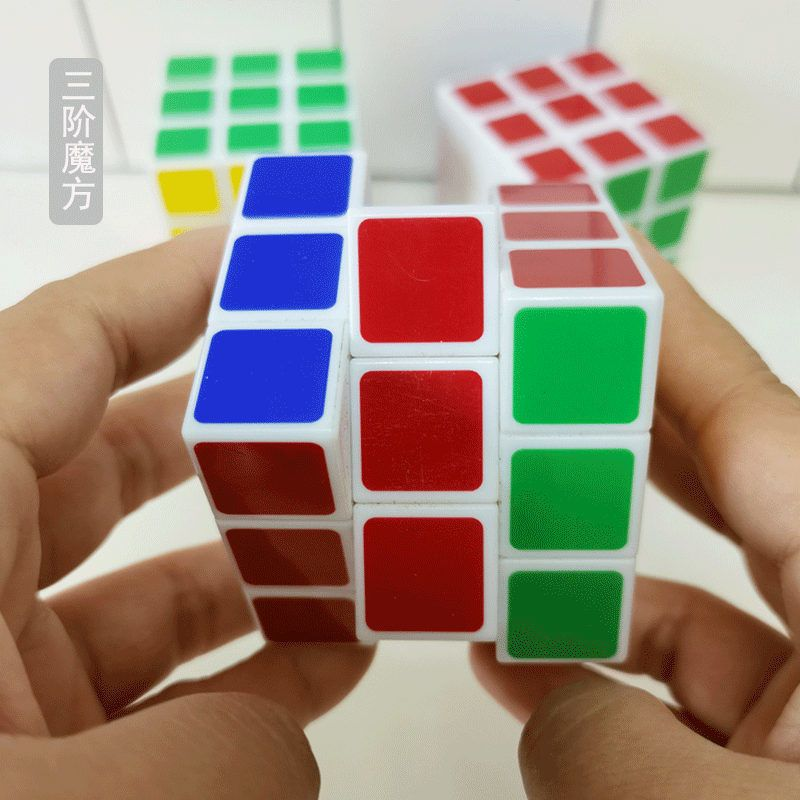cube: (174, 145, 669, 672), (418, 43, 711, 270), (150, 49, 368, 217)
